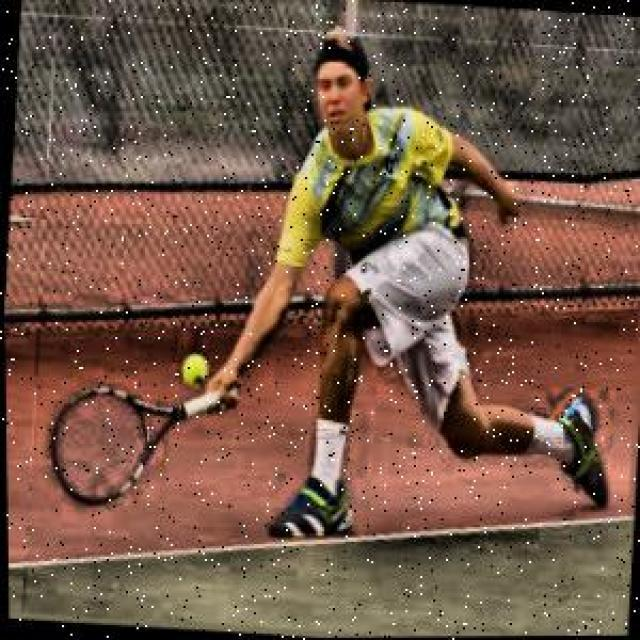tennis-ball: (180, 354, 208, 391)
